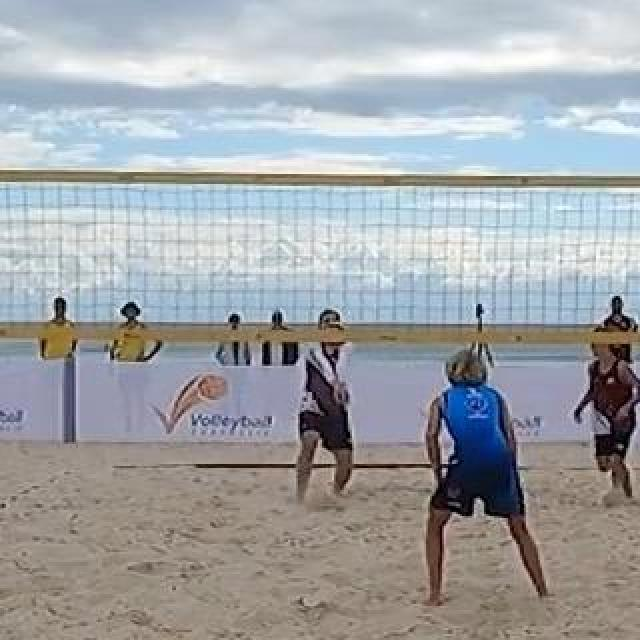volleyball: (324, 321, 350, 349)
